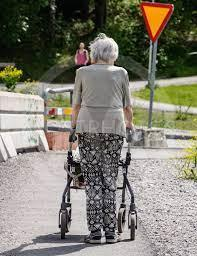walking_frame: (59, 38, 138, 244)
